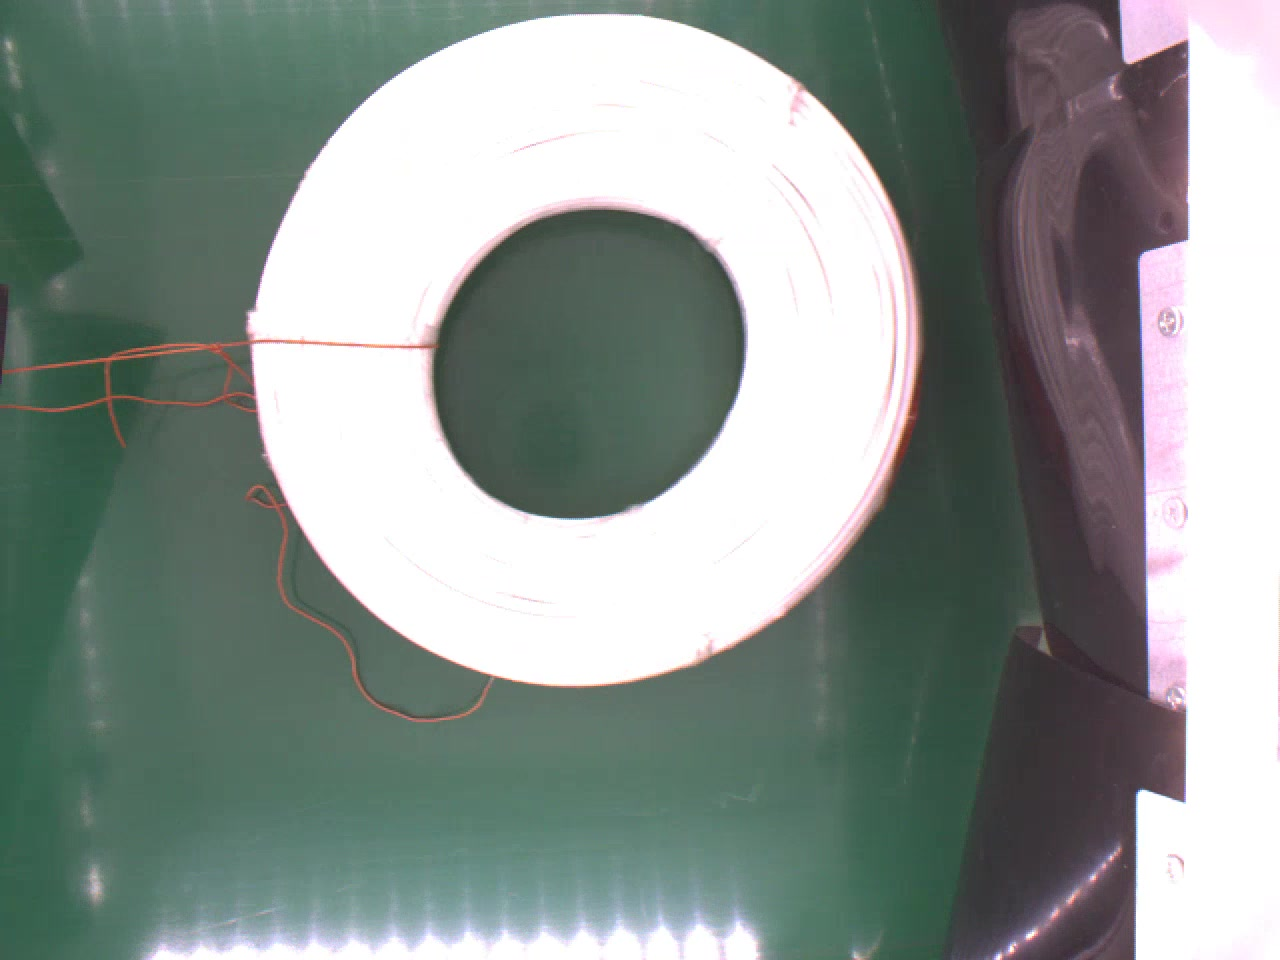white: (242, 9, 916, 688)
